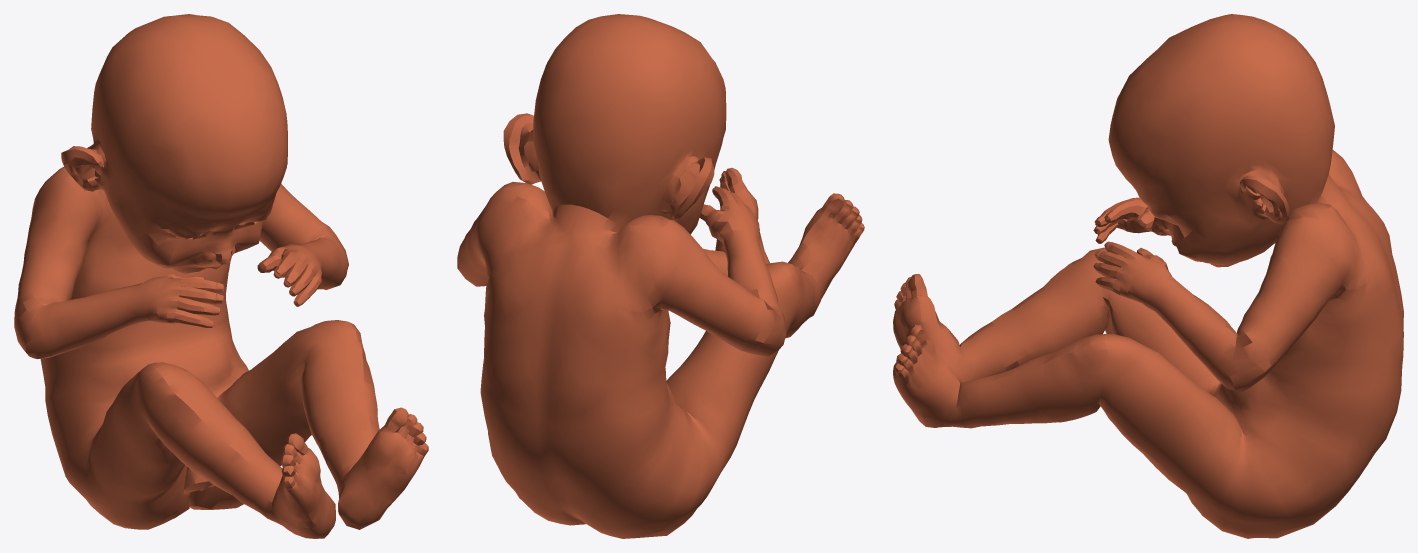
File: baby_model.glb
3 renders of one model, left to right at view 1: azimuth 30°, elevation 25°; view 2: azimuth 150°, elevation 25°; view 3: azimuth 270°, elevation 25°, orthographic.
Visible parts, largest first — view 1: Mesh (2); view 2: Mesh (2); view 3: Mesh (2).
Part boxes in pixels (left/top/right/bottom): Mesh (2): left=14, top=14, right=428, bottom=538; Mesh (2): left=457, top=14, right=864, bottom=538; Mesh (2): left=893, top=14, right=1403, bottom=538.
Size of the model in its own units: 0.6706 by 0.9861 by 0.9261.
